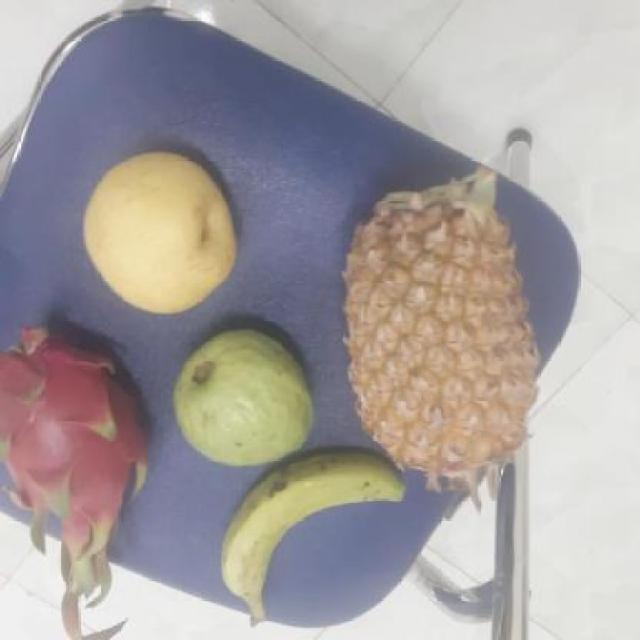banana: (222, 451, 404, 607)
dragon fruit: (0, 319, 158, 552)
guava: (174, 331, 317, 466)
pear: (79, 150, 246, 312)
pineapple: (344, 174, 556, 472)
